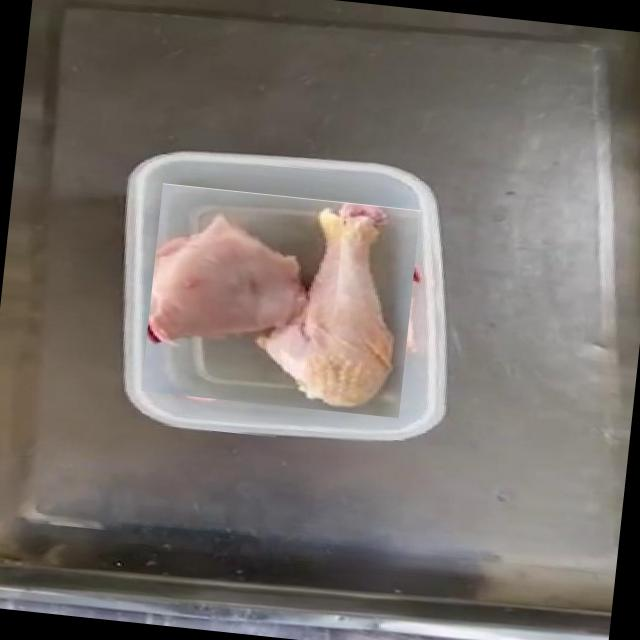chicken: (140, 182, 420, 418)
